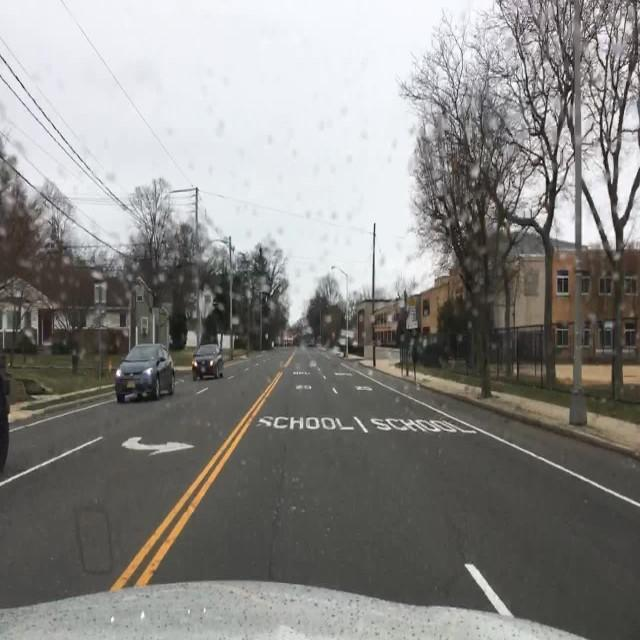normal: (100, 293, 254, 421)
